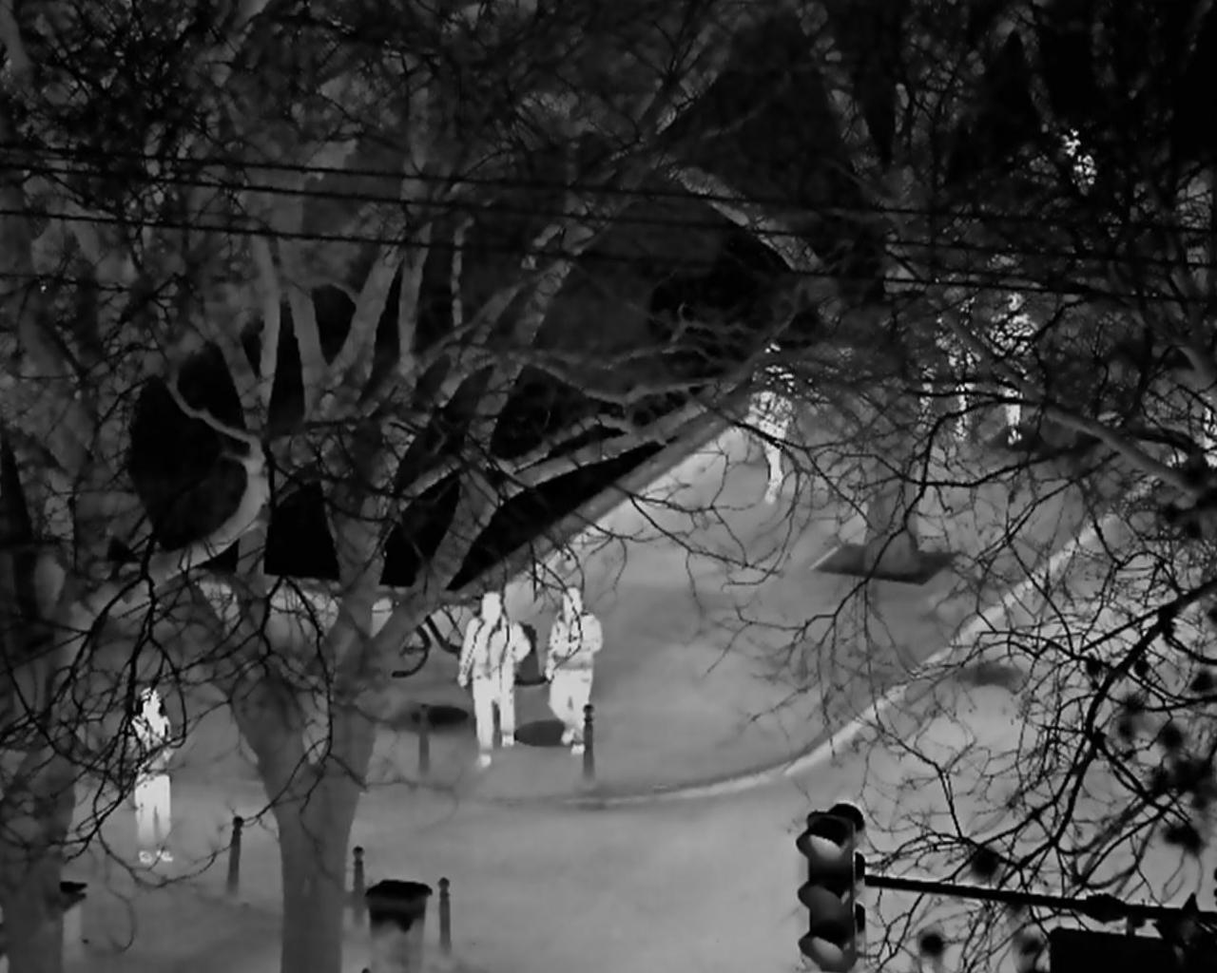person: (457, 591, 532, 770), (544, 588, 604, 755), (127, 689, 177, 866), (747, 388, 791, 505)
